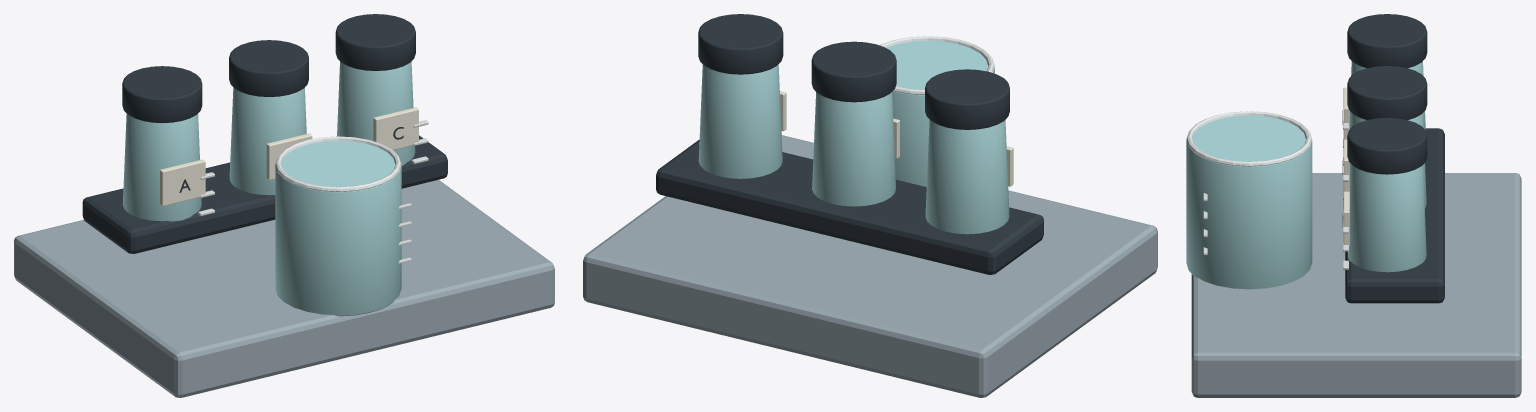
The model's file is indicator.glb.
3 renders of one model, left to right at view 1: azimuth 30°, elevation 25°; view 2: azimuth 150°, elevation 25°; view 3: azimuth 270°, elevation 25°, orthographic. The views are drawn at different scales.
Visible parts, largest first — view 1: Chemical spill tray, Beaker, Rack, Sample bottle, Sample bottle.001, Sample bottle.002, Cap.002, Cap, Cap.001, Sample label, Beaker lip, Sample label.002 (+1 smaller); view 2: Chemical spill tray, Rack, Sample bottle, Sample bottle.002, Sample bottle.001, Beaker, Cap.002, Cap.001, Cap, Beaker lip; view 3: Chemical spill tray, Beaker, Sample bottle.002, Rack, Cap.002, Cap, Cap.001, Beaker lip, Sample bottle.001, Sample label.002, Sample bottle.
Boxes of the visible parts, x1,y1,x2,y2 form: Chemical spill tray: (14,179,554,397); Beaker: (275,140,401,316); Rack: (82,135,447,253); Sample bottle: (122,114,201,221); Sample bottle.001: (229,87,306,195); Sample bottle.002: (337,61,415,165); Cap.002: (335,14,415,70); Cap: (122,66,202,123); Cap.001: (229,40,308,96); Sample label: (160,159,205,206); Beaker lip: (275,136,401,191); Sample label.002: (373,107,418,149); Chemical spill tray: (583,135,1157,397); Rack: (656,139,1043,274); Sample bottle: (925,120,1009,234); Sample bottle.002: (698,64,782,178); Sample bottle.001: (812,92,895,206); Beaker: (886,40,994,186); Cap.002: (698,14,783,74); Cap.001: (811,41,896,102); Cap: (925,69,1009,129); Beaker lip: (879,36,994,94); Chemical spill tray: (1191,173,1521,397); Beaker: (1186,115,1312,289); Sample bottle.002: (1348,165,1426,272); Rack: (1345,128,1444,303); Cap.002: (1347,117,1427,174); Cap: (1347,14,1427,68); Cap.001: (1347,66,1427,119); Beaker lip: (1186,111,1311,166); Sample bottle.001: (1349,113,1426,208); Sample label.002: (1343,191,1349,246); Sample bottle: (1349,61,1425,130).
Bounding box in the file's own units: 0.57 × 0.325 × 0.437.
